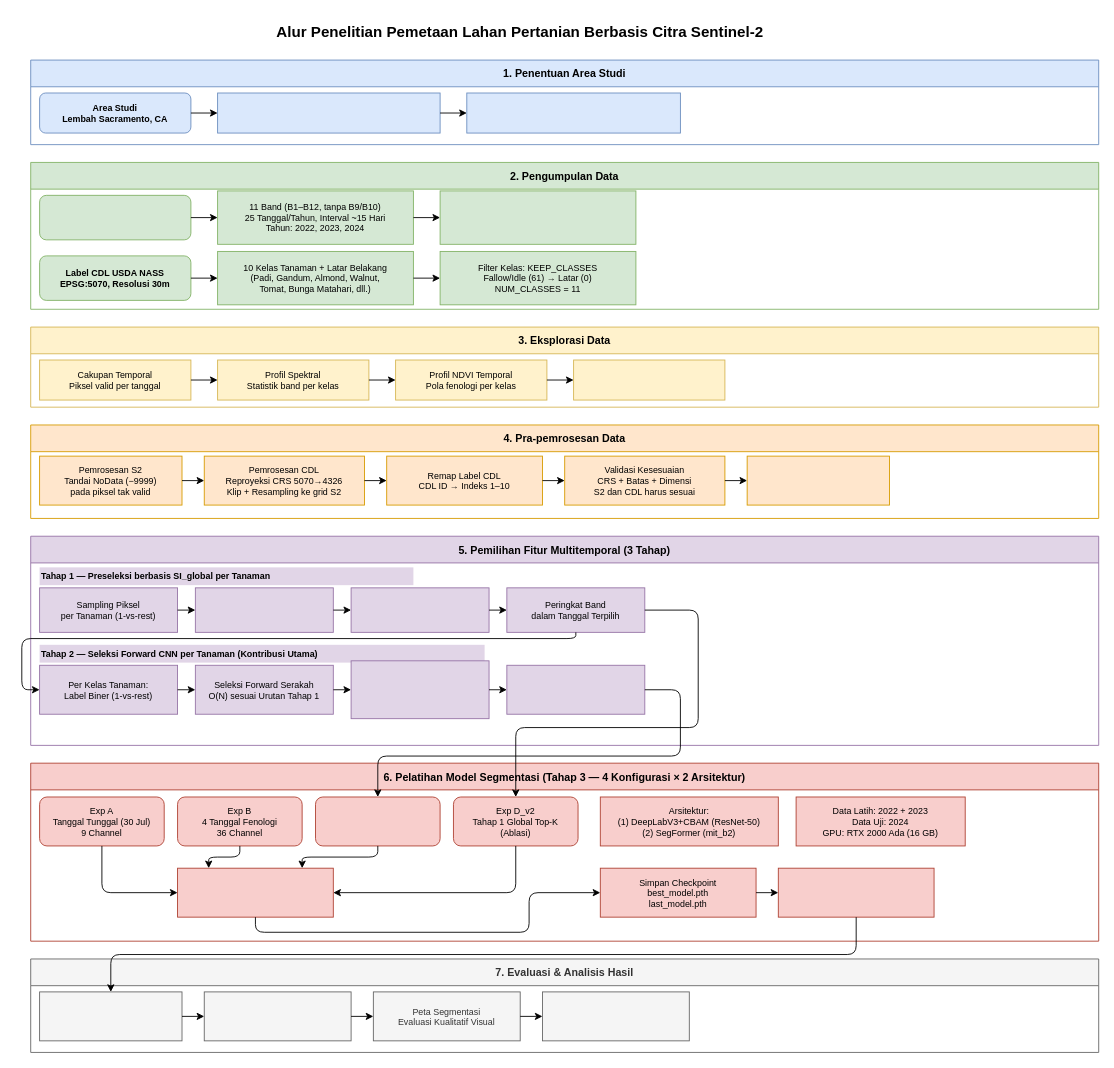
This 1114x1068 diagram has some shape labels left out. The shapes that lost their labels are listed below. From the top down, each one's centre as x and y in pixels, then its label:
the point at 328,112: Koordinat & Batas Wilayah 122°B–121°B, 38°U–39°U, ~2.038 km²
the point at 573,112: Grid Ekspor: 5.596×4.684 piksel Resolusi ~10m/piksel, CRS EPSG:4326
the point at 115,217: Sentinel-2 SR (GEE) COPERNICUS/S2_SR_HARMONIZED
the point at 537,217: Filter Cloud Coverage ≤10% Ekspor ke Google Drive
the point at 649,379: Distribusi Kelas CDL Proporsi luas per tanaman
the point at 818,480: Simpan S2 dan CDL yang telah diproses
the point at 263,609: Hitung SI_global per Channel × Tanaman
the point at 419,609: Peringkat Tanggal Top-K per Tanaman
the point at 419,689: Oracle: U-Net (ResNet-18) 15 epoch, early stop p=5 Terima jika ΔIoU > δ
the point at 575,689: K* Band per Tanaman Berhenti: 5 Kali Gagal
the point at 377,821: Exp C_v2 Seleksi CNN Tahap 2 K* Channel
the point at 255,892: Loop Pelatihan Adam, CrossEntropy LR Scheduler, Early Stop
the point at 855,892: Log MLflow Loss, mIoU per Epoch best_val_iou per Kelas
the point at 110,1016: Inferensi Data Uji Tahun 2024, Tile-based
the point at 277,1016: Metrik per Kelas Tanaman IoU, mIoU Confusion Matrix
the point at 615,1016: Perbandingan Exp A/B/C_v2/D_v2 × 2 Arsitektur
